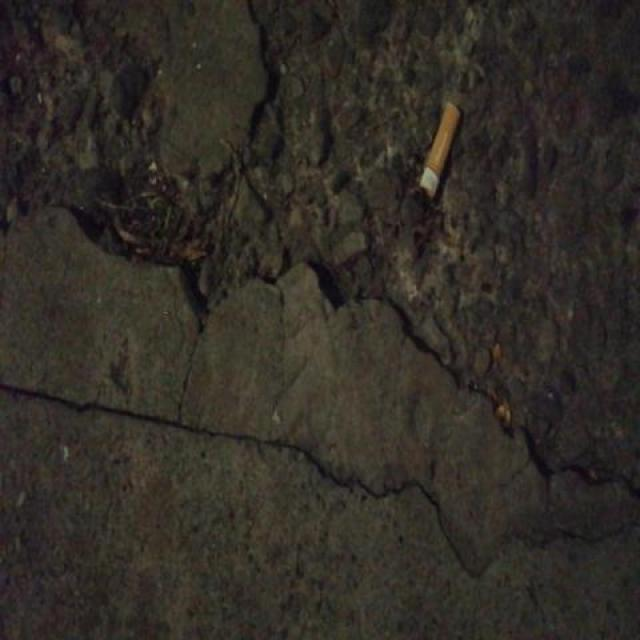non-organic waste: (414, 96, 465, 205)
